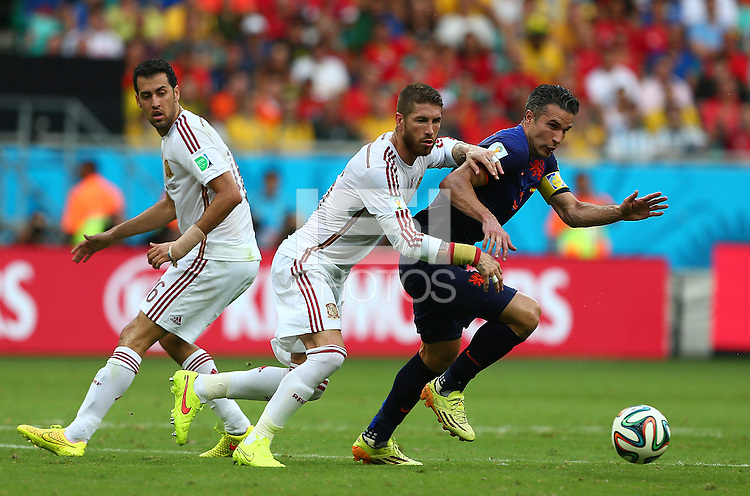football: (610, 403, 671, 465)
